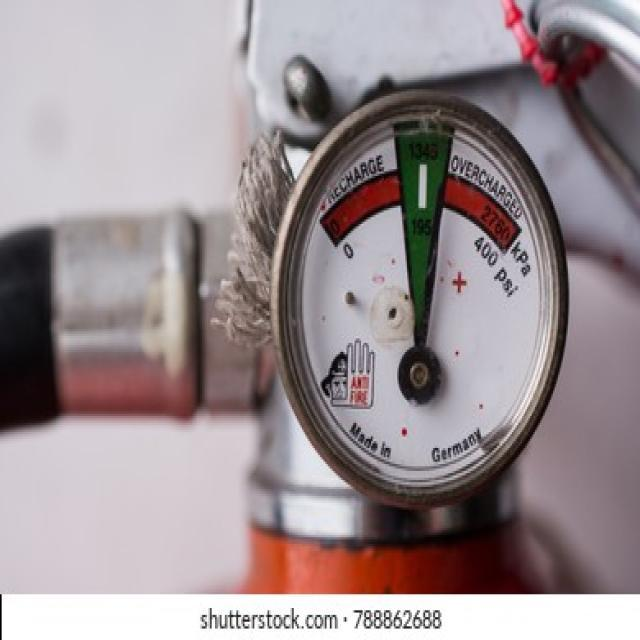pressure gauge: (272, 91, 567, 508)
